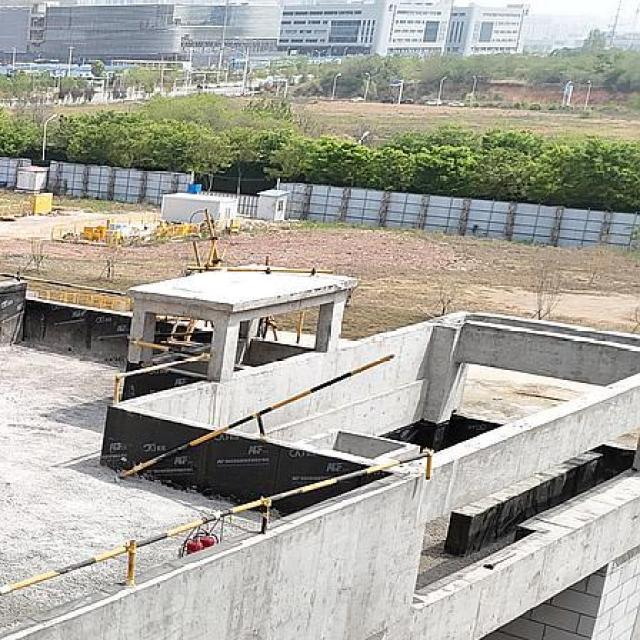Guardrail: (0, 447, 434, 596), (116, 352, 395, 481), (112, 337, 214, 404), (0, 272, 129, 298)
